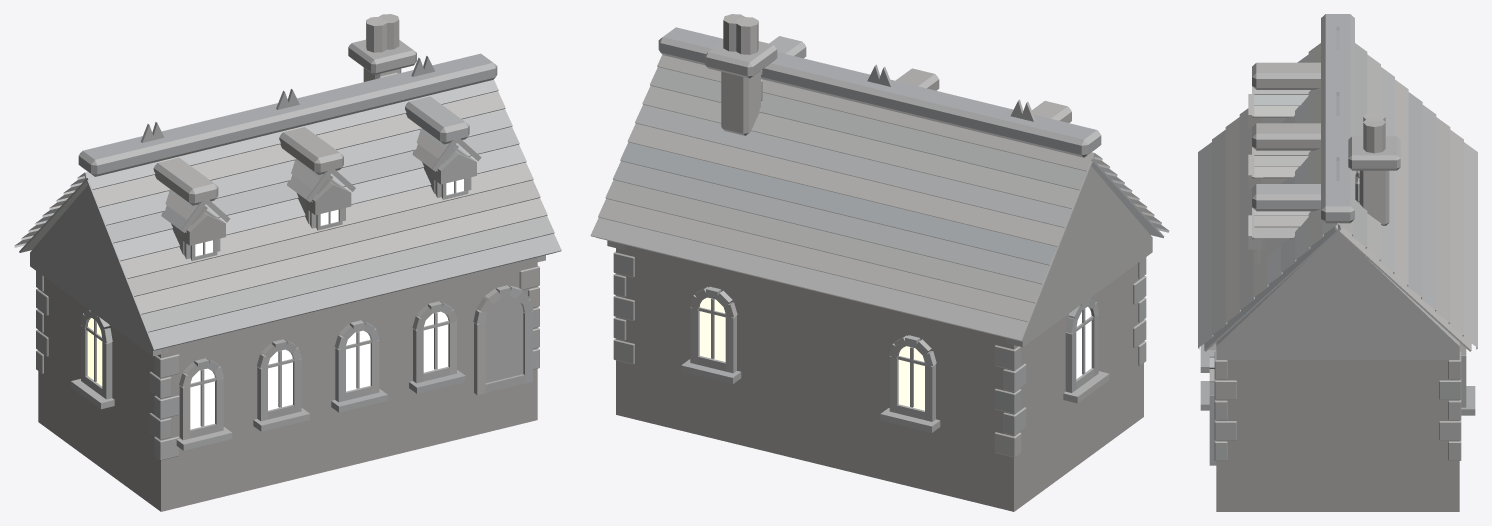
The model's file is hall_ref.glb.
3 renders of one model, left to right at view 1: azimuth 30°, elevation 25°; view 2: azimuth 150°, elevation 25°; view 3: azimuth 270°, elevation 25°, orthographic. The views are drawn at different scales.
Visible parts, largest first — view 1: SM_FK_hall_ref; view 2: SM_FK_hall_ref; view 3: SM_FK_hall_ref.
Boxes of the visible parts, box(x1,y1,x2,y2) form: SM_FK_hall_ref: box(14, 14, 561, 511); SM_FK_hall_ref: box(590, 14, 1169, 511); SM_FK_hall_ref: box(1198, 14, 1477, 511).
Bounding box in the file's own units: 12.4 × 10.5 × 7.48.
